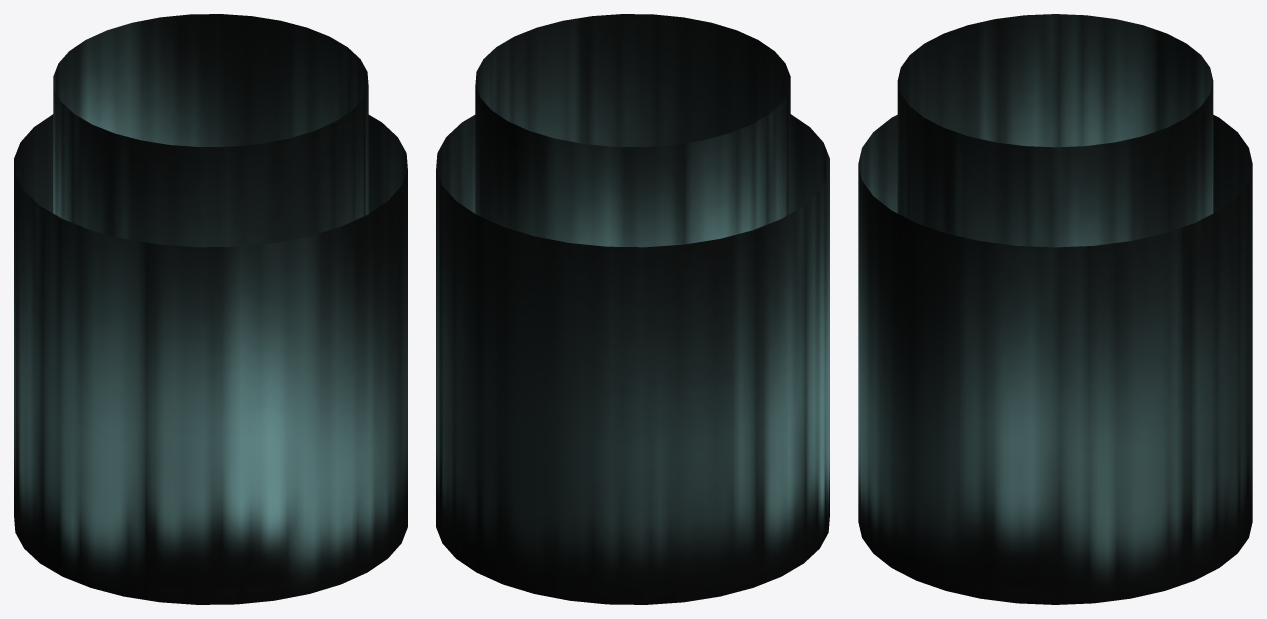
The model's file is Rings.obj.
The picture shows the model from 3 angles, left to right: view 1: azimuth 30°, elevation 25°; view 2: azimuth 150°, elevation 25°; view 3: azimuth 270°, elevation 25°; orthographic projection.
Parts seen in each view (by area): view 1: Cylinder_Cylinder.001; view 2: Cylinder_Cylinder.001; view 3: Cylinder_Cylinder.001.
Boxes of the visible parts, box(x1,y1,x2,y2) form: Cylinder_Cylinder.001: box(14, 14, 407, 604); Cylinder_Cylinder.001: box(436, 14, 829, 604); Cylinder_Cylinder.001: box(858, 14, 1252, 604).
Bounding box in the file's own units: 3 × 3.7 × 3.
1 material, 1 textured.
